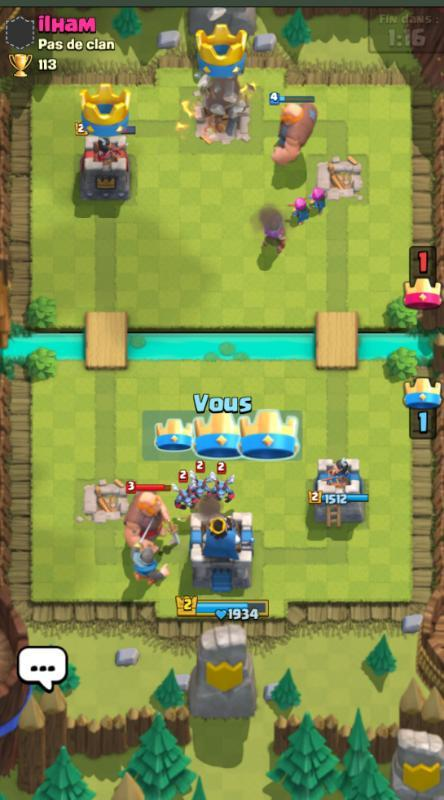enemy_giant: (118, 483, 178, 553)
enemy_minions: (203, 461, 239, 503), (168, 468, 200, 511), (185, 460, 214, 499)
player_archers: (286, 192, 312, 226), (306, 181, 329, 213)
player_giant: (267, 92, 321, 168)
player_knight: (126, 540, 172, 586)
